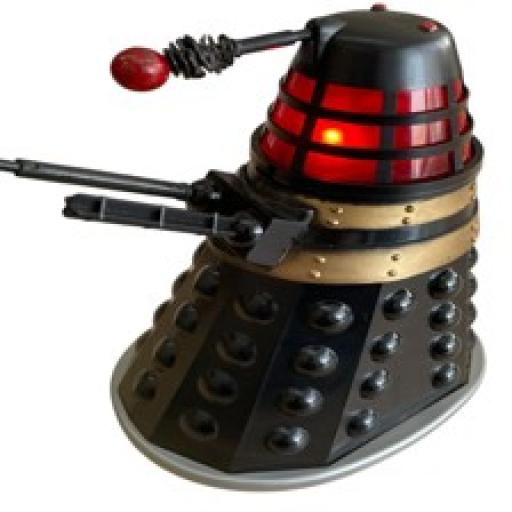dalek: (0, 4, 489, 492)
